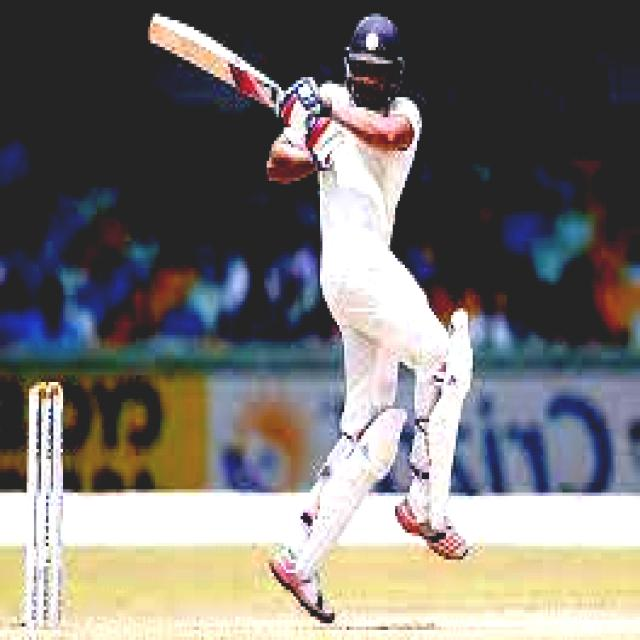toe: (150, 11, 166, 53)
